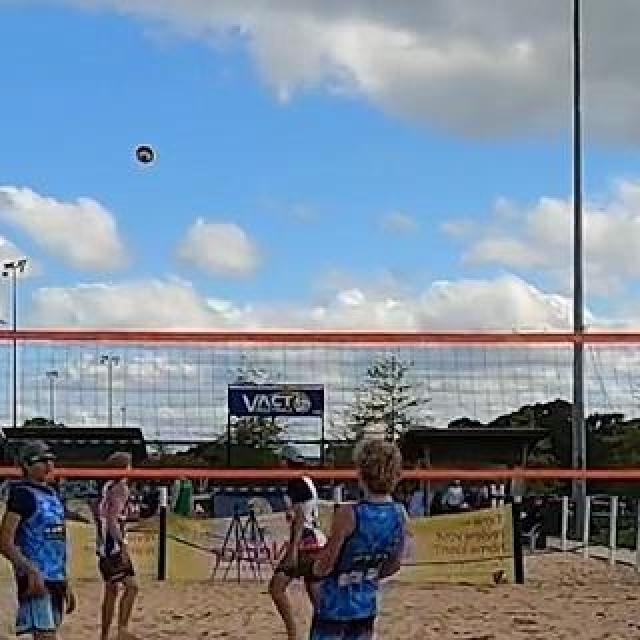volleyball: (135, 145, 155, 163), (492, 569, 508, 585)
